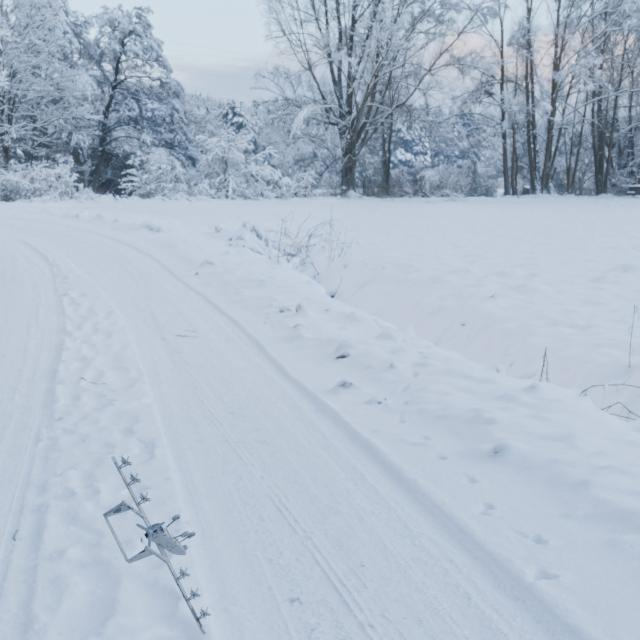Airaplan: (102, 454, 212, 634)
